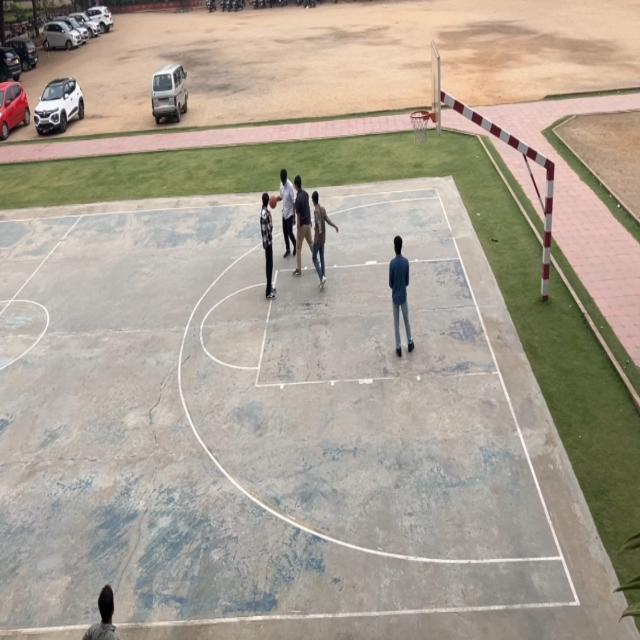basketball: (267, 193, 278, 212)
hoop: (409, 107, 430, 148)
